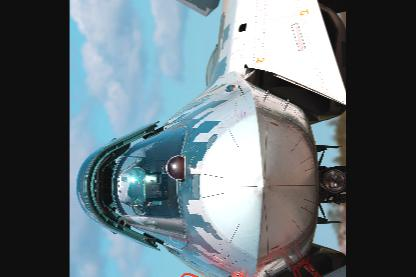SR71: (73, 0, 346, 276)
